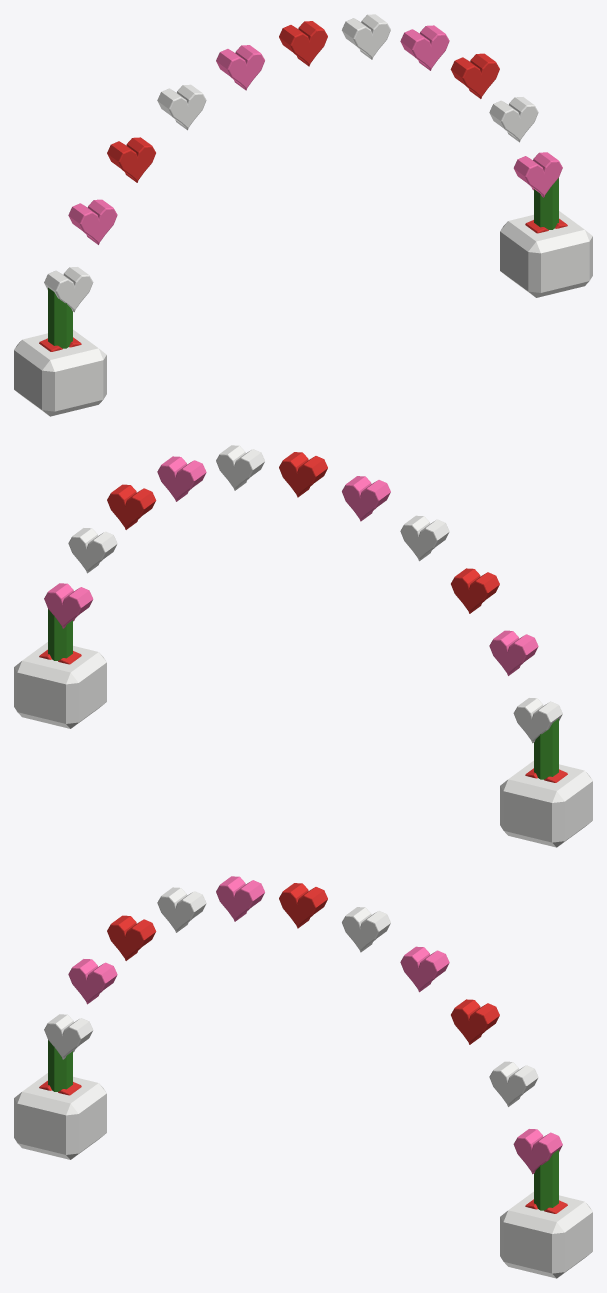
The model's file is HeartArch.fbx.
The picture shows the model from 3 angles, top to bottom: view 1: azimuth 30°, elevation 25°; view 2: azimuth 150°, elevation 25°; view 3: azimuth 330°, elevation 25°; orthographic projection.
Parts seen in each view (by area): view 1: HeartArch; view 2: HeartArch; view 3: HeartArch.
Boxes of the visible parts, x1,y1,x2,y2 form: HeartArch: [14, 14, 592, 416]; HeartArch: [14, 445, 592, 847]; HeartArch: [14, 876, 592, 1278].
Size of the model in its own units: 10.2 by 5.55 by 1.2.
Materials: 1 (1 with a texture image).
